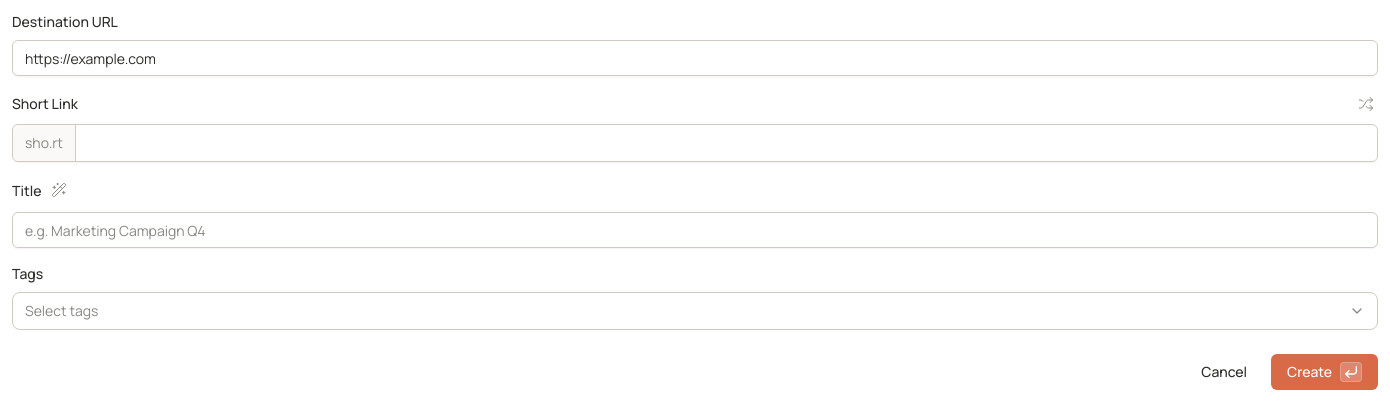
Test case: LinkFormFields › title suggestion › derives the title from the hostname when the title request fails
The width and height of the screenshot is (1390, 407).
Click the button named "Suggest a title from the page" at (59, 190), box [47, 178, 71, 202]
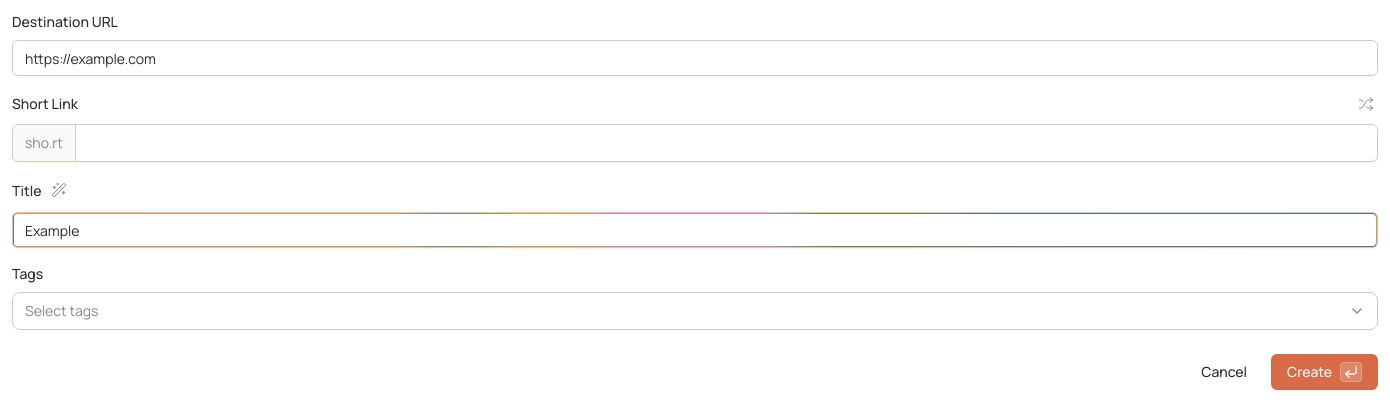
expect the field labelled "Title" holds "Example": met, box [12, 212, 1378, 248]
